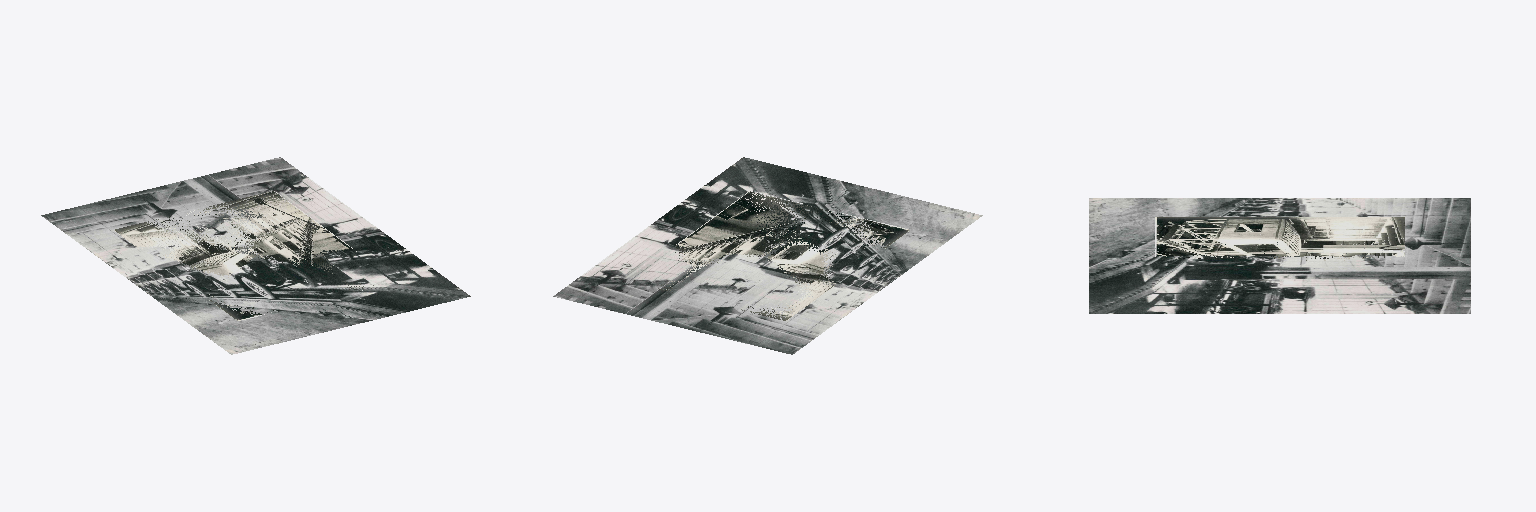
The picture shows the model from 3 angles: view 1: azimuth 30°, elevation 25°; view 2: azimuth 150°, elevation 25°; view 3: azimuth 270°, elevation 25°; orthographic projection.
Visible parts, largest first — view 1: Plane002, Plane001; view 2: Plane002, Plane001; view 3: Plane002, Plane001.
Boxes of the visible parts, x1,y1,x2,y2 form: Plane002: [41, 157, 470, 354]; Plane001: [114, 191, 373, 320]; Plane002: [553, 157, 982, 354]; Plane001: [658, 191, 909, 320]; Plane002: [1089, 198, 1470, 313]; Plane001: [1155, 217, 1404, 260].
Bounding box in the file's own units: 5.24 × 0 × 7.21.
Materials: 2 (2 with a texture image).